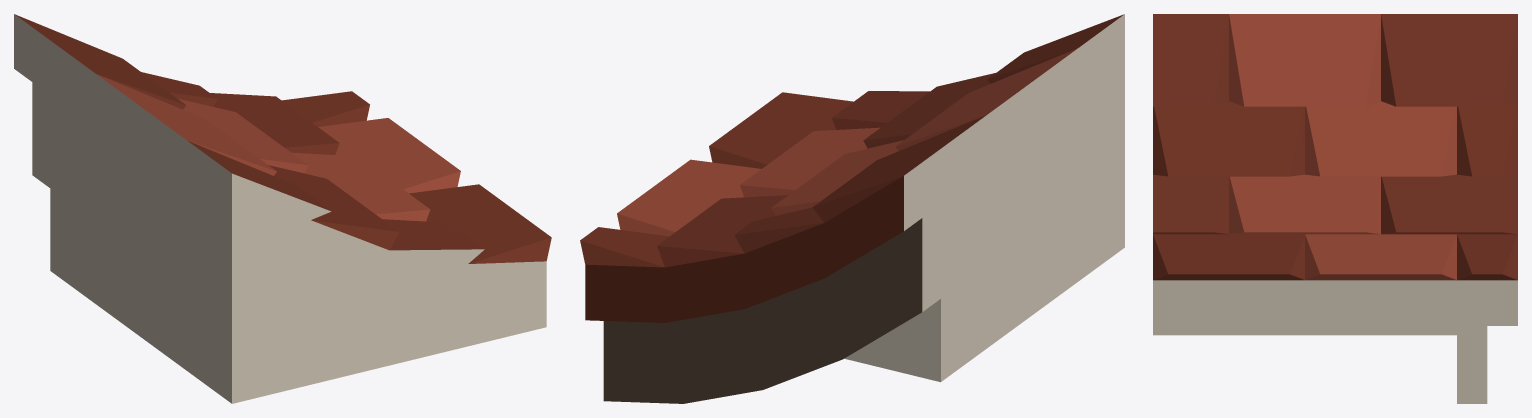
File: Roof_Concave_Side_Edge.obj
The picture shows the model from 3 angles, left to right: view 1: azimuth 30°, elevation 25°; view 2: azimuth 150°, elevation 25°; view 3: azimuth 270°, elevation 25°; orthographic projection. The views are drawn at different scales.
Parts seen in each view (by area): view 1: object1; view 2: object1; view 3: object1.
Boxes of the visible parts, x1,y1,x2,y2 form: object1: [14, 14, 551, 403]; object1: [580, 14, 1124, 403]; object1: [1153, 14, 1517, 403].
Bounding box in the file's own units: 1.05 × 0.9495 × 1.2.
